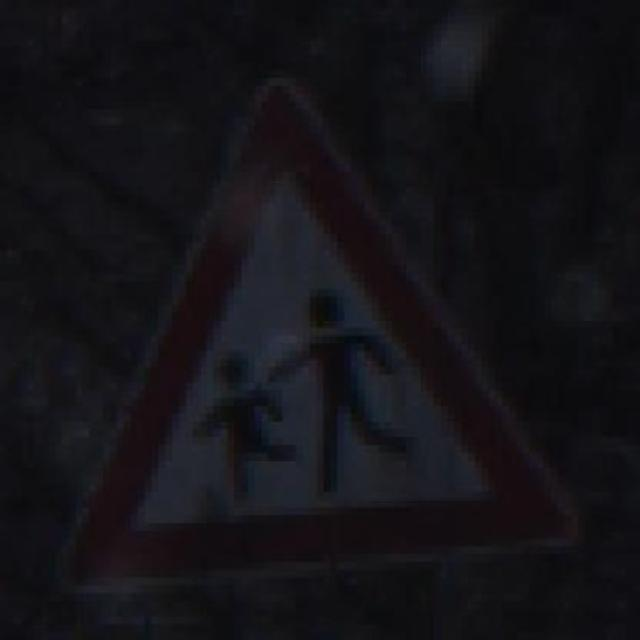Beware of children: (61, 78, 584, 585)
